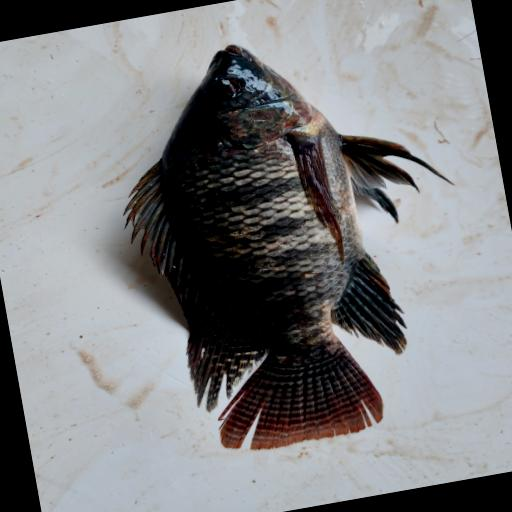Tilapia: (96, 10, 494, 468)
